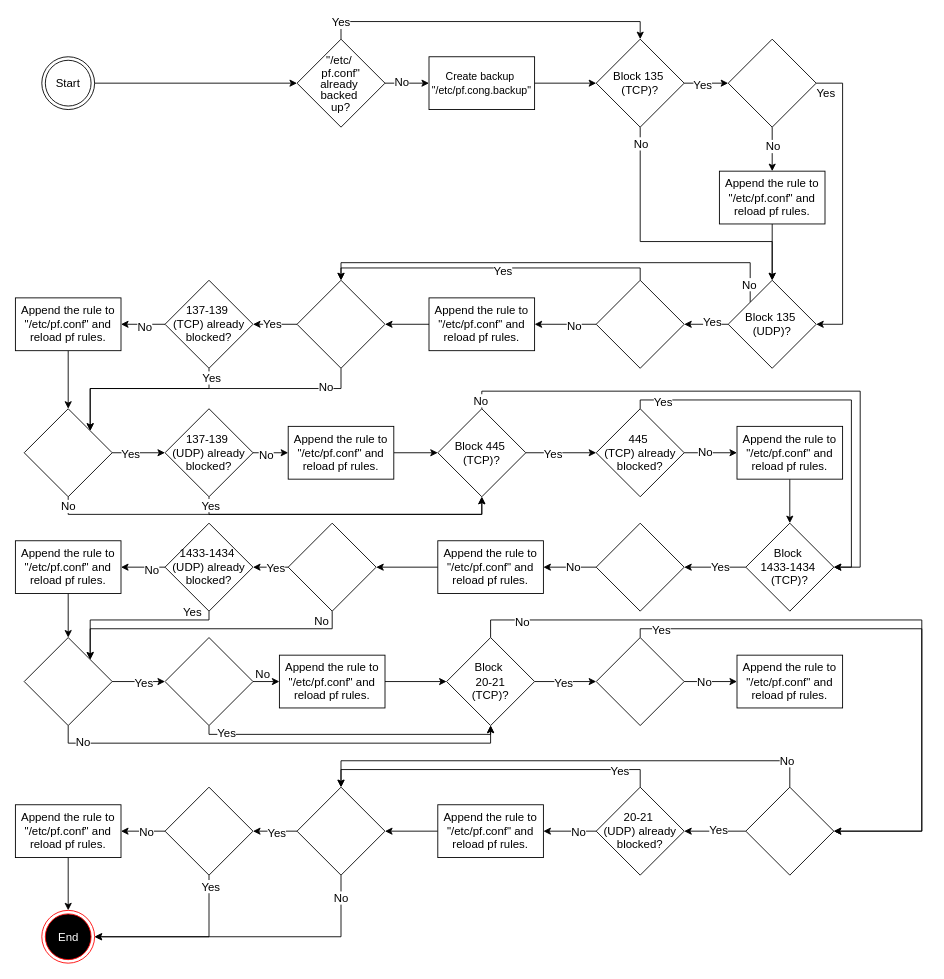
The diagram is 944 pixels wide and 979 high, and some of its shapes have lost their labels. Each missing label, with the centre of its shape:
135 (TCP) already blocked?: pixel 771 82
135 (UDP) already blocked?: pixel 639 323
1433-1434 (TCP) already blocked?: pixel 639 566
1900 (UDP) already blocked?: pixel 208 681
20-21 (TCP) already blocked?: pixel 639 681
23 (TCP) already blocked?: pixel 208 830
Block 137-139 (TCP)?: pixel 340 323
Block 137-139 (UDP)?: pixel 67 452
Block 1433-1434 (UDP)?: pixel 331 566
Block 1900 (UDP)?: pixel 67 681
Block 20-21 (UDP)?: pixel 789 830
Block 23 (TCP)?: pixel 340 830
